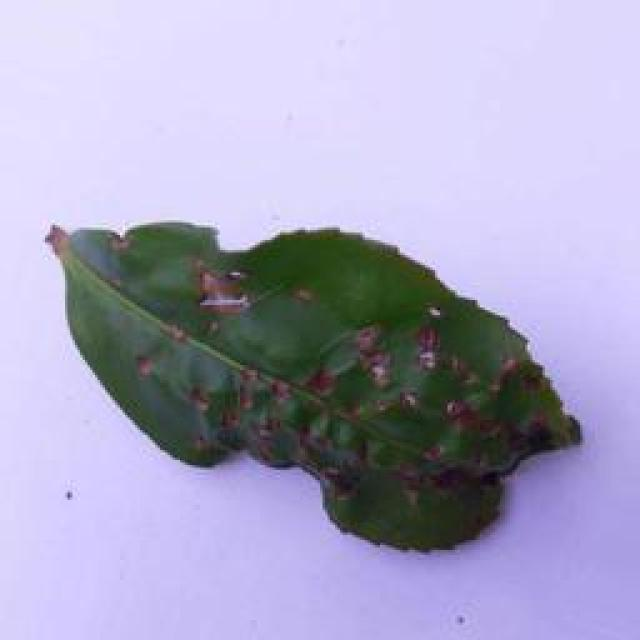Helopeltis: (39, 206, 589, 554)
